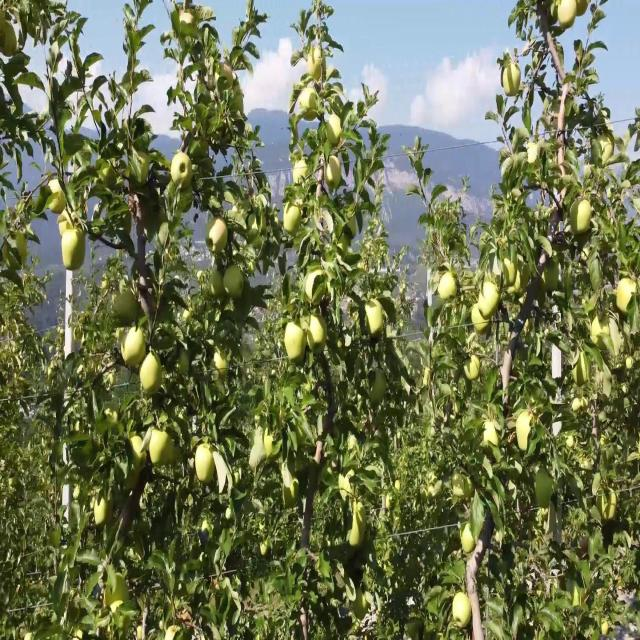apple: (112, 284, 139, 327), (64, 227, 88, 272), (124, 327, 148, 372), (140, 355, 163, 398), (516, 412, 537, 453), (148, 426, 168, 469), (128, 433, 148, 475), (172, 156, 195, 192), (616, 277, 637, 315), (196, 447, 216, 484), (308, 319, 328, 356), (208, 220, 228, 256), (324, 156, 344, 192), (288, 327, 307, 363), (480, 284, 500, 318), (572, 199, 592, 233), (132, 156, 150, 192), (308, 49, 326, 84), (504, 63, 521, 100), (104, 583, 127, 610), (452, 597, 472, 628), (224, 270, 244, 299), (472, 305, 492, 334), (48, 184, 68, 213), (284, 476, 301, 510), (164, 433, 181, 466), (368, 305, 384, 340), (284, 206, 303, 235), (300, 92, 319, 121), (440, 270, 457, 302), (328, 113, 343, 149), (96, 497, 113, 528), (592, 319, 610, 348), (544, 263, 561, 293), (4, 21, 18, 57), (372, 376, 388, 407), (12, 234, 28, 265), (348, 519, 365, 548), (536, 476, 553, 505), (600, 135, 615, 167), (560, 0, 576, 28), (264, 433, 279, 460), (32, 191, 47, 217), (484, 426, 500, 450), (464, 526, 477, 555), (504, 255, 516, 286), (180, 191, 195, 215), (212, 270, 224, 299), (216, 348, 228, 377), (552, 7, 564, 36), (180, 348, 192, 377), (468, 355, 480, 382), (576, 362, 589, 386), (60, 213, 74, 235), (517, 270, 531, 292), (296, 163, 308, 187), (356, 597, 369, 619), (576, 0, 588, 21), (432, 270, 443, 290), (536, 7, 548, 20), (556, 21, 565, 37)
